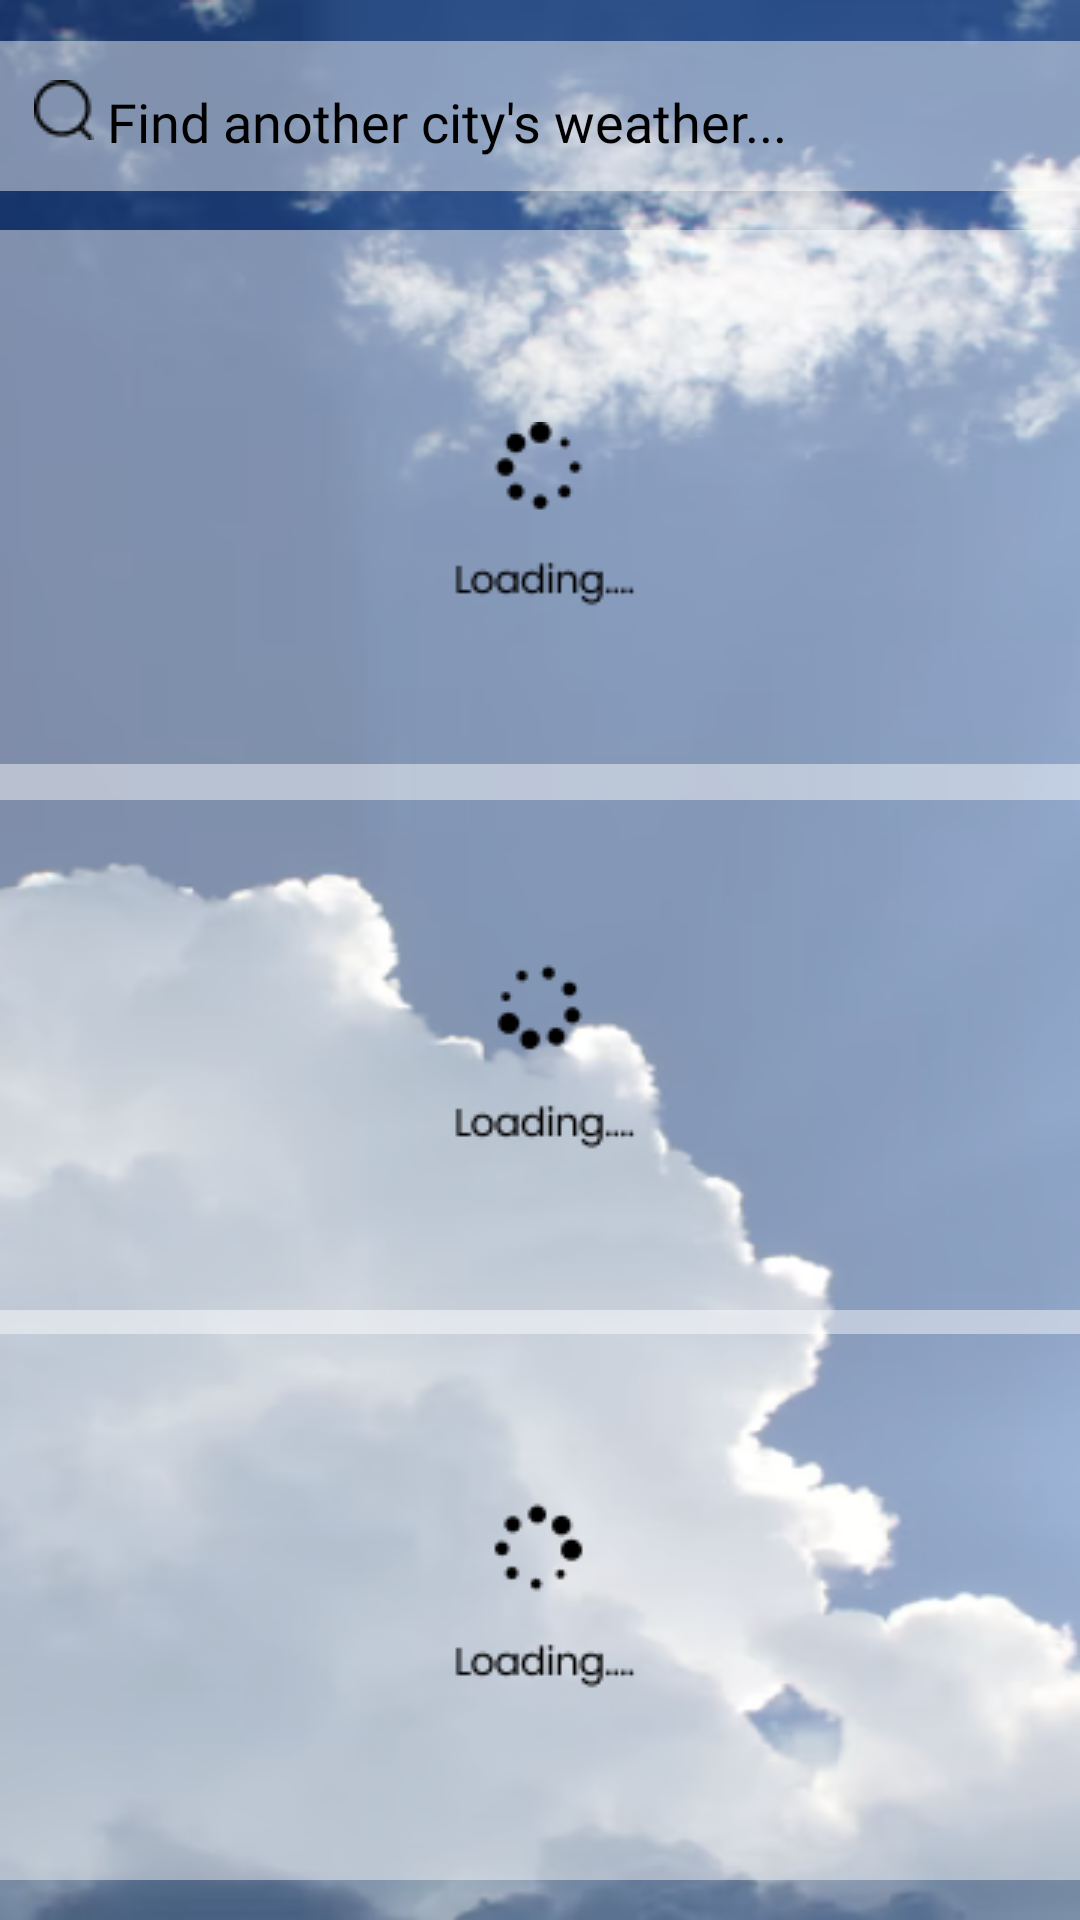

Where to tap for icons on this 1080 × 1920 app screen, as [x,y]:
search: [64,110]
